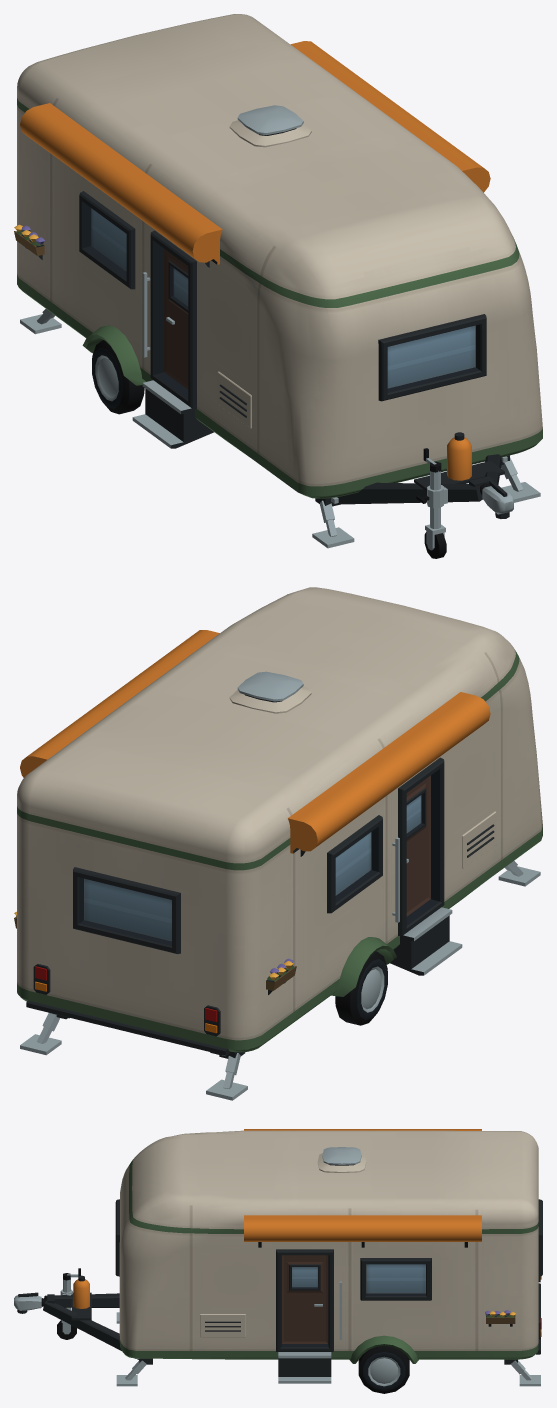
File: caravan.glb
3 renders of one model, top to bottom at view 1: azimuth 30°, elevation 25°; view 2: azimuth 150°, elevation 25°; view 3: azimuth 270°, elevation 25°, orthographic. The views are drawn at different scales.
Visible parts, largest first — view 1: CaravanBody; view 2: CaravanBody; view 3: CaravanBody.
Part boxes in pixels (x1,y1,x2,y2): CaravanBody: (14, 14, 542, 558); CaravanBody: (14, 587, 542, 1100); CaravanBody: (14, 1129, 542, 1393).
Size of the model in its own units: 2.89 by 2.67 by 6.46.
Materials: 1 (1 with a texture image).
